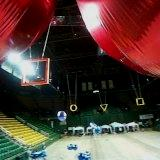Orange_Square_GShape: (21, 57, 50, 87)
Purple_Balloon: (56, 110, 66, 121)
Yellow_Circle_GShape: (70, 103, 78, 112)
Yellow_Square_GShape: (135, 98, 145, 106)
Yellow_Triangle_Gshape: (100, 104, 107, 112)
